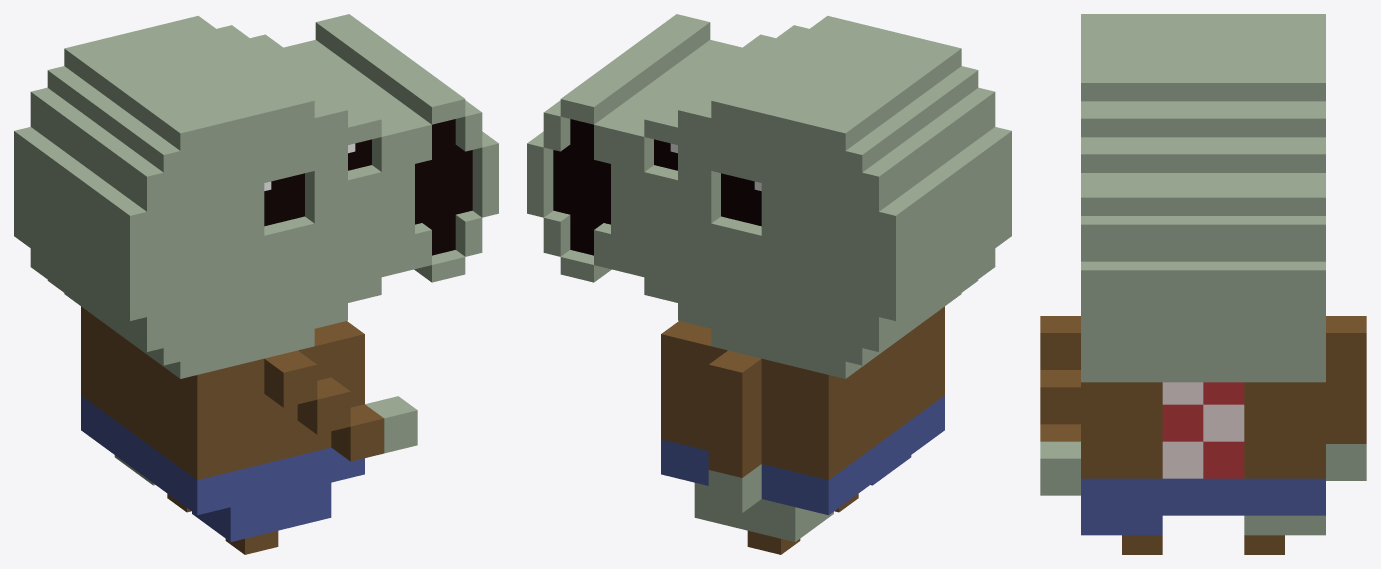
File: ZombiePeashooter.obj
The picture shows the model from 3 angles, left to right: view 1: azimuth 30°, elevation 25°; view 2: azimuth 150°, elevation 25°; view 3: azimuth 270°, elevation 25°; orthographic projection. The views are drawn at different scales.
Size of the model in its own units: 2.2 by 2.6 by 1.6.
Materials: 1 (1 with a texture image).
